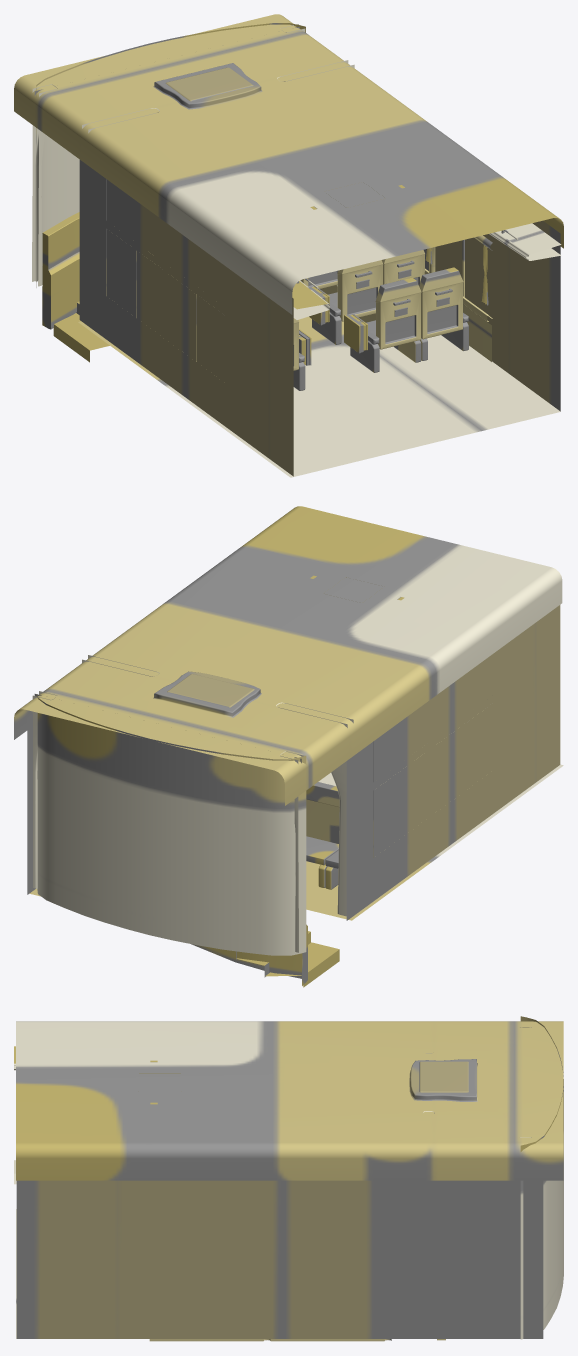
Rendered from BusInterior2.fbx.
The picture shows the model from 3 angles, top to bottom: view 1: azimuth 30°, elevation 25°; view 2: azimuth 150°, elevation 25°; view 3: azimuth 270°, elevation 25°; orthographic projection.
Visible parts, largest first — view 1: ceiling, left, flor, right, pCube12 (×4), enter, front, pCube29, monitor_stand, nimotu, polySurface5, kaidann (+3 smaller); view 2: ceiling, front, left, flor, pCube12, monitor_stand, enter, pCube22, kaidann, right, pCube28, pCube29 (+1 smaller); view 3: ceiling, right, front, monitor_stand, polySurface5.
Part boxes in pixels (left/top/right/bottom): ceiling: left=14, top=14, right=563, bottom=314; left: left=79, top=160, right=293, bottom=476; flor: left=78, top=316, right=560, bottom=477; right: left=423, top=220, right=560, bottom=411; pCube12 (×4): left=337, top=250, right=463, bottom=349; enter: left=42, top=212, right=79, bottom=329; front: left=36, top=23, right=305, bottom=287; pCube29: left=32, top=84, right=57, bottom=286; monitor_stand: left=165, top=67, right=253, bottom=101; nimotu: left=489, top=223, right=561, bottom=260; polySurface5: left=429, top=235, right=492, bottom=361; kaidann: left=53, top=301, right=109, bottom=362; ceiling: left=14, top=506, right=562, bottom=805; front: left=37, top=694, right=306, bottom=955; left: left=346, top=605, right=560, bottom=920; flor: left=29, top=764, right=563, bottom=920; pCube12: left=306, top=782, right=339, bottom=843; monitor_stand: left=167, top=674, right=254, bottom=707; enter: left=191, top=924, right=307, bottom=985; pCube22: left=276, top=702, right=353, bottom=916; kaidann: left=236, top=931, right=339, bottom=987; right: left=27, top=714, right=35, bottom=894; pCube28: left=32, top=691, right=56, bottom=888; pCube29: left=280, top=751, right=304, bottom=952; ceiling: left=16, top=1021, right=563, bottom=1180; right: left=16, top=1180, right=543, bottom=1338; front: left=520, top=1016, right=563, bottom=1339; monitor_stand: left=419, top=1061, right=468, bottom=1092; polySurface5: left=149, top=1339, right=391, bottom=1341.
Size of the model in its own units: 257 by 220 by 455.
